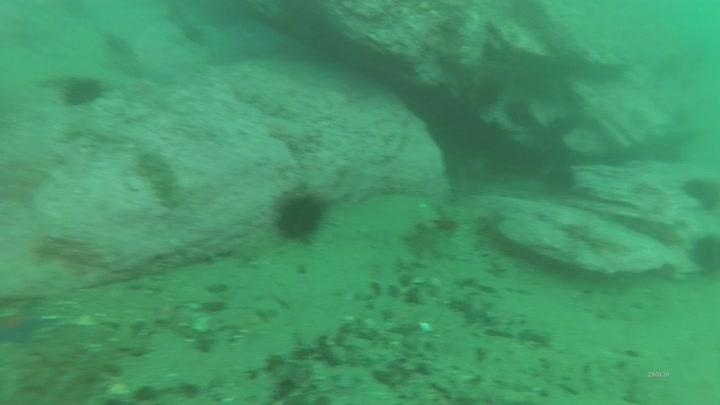echinus: (269, 187, 329, 245), (59, 73, 107, 109), (686, 230, 720, 278), (679, 173, 719, 212)
holothurian: (135, 147, 182, 211)
starfish: (0, 302, 48, 349)
